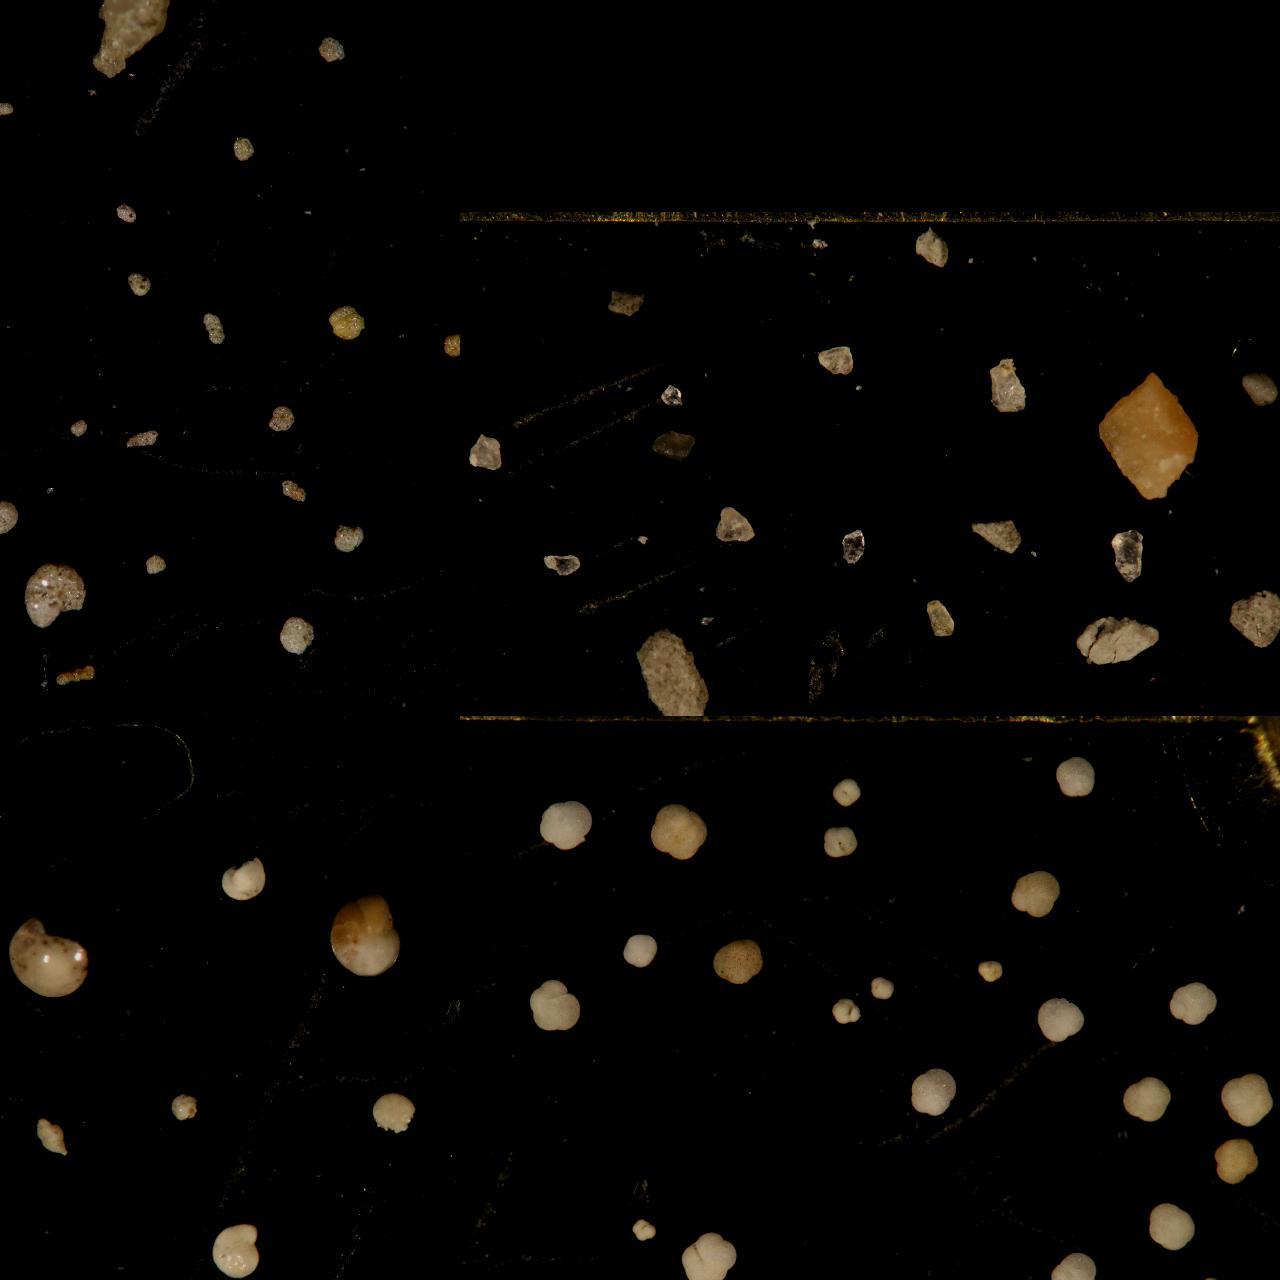Sediment: (1094, 369, 1198, 501), (633, 626, 712, 716), (1076, 614, 1162, 666), (1227, 588, 1280, 647), (987, 355, 1029, 415), (1109, 526, 1145, 584), (967, 517, 1022, 552), (913, 224, 951, 268), (713, 504, 756, 542), (651, 428, 697, 462), (1240, 368, 1280, 406), (606, 286, 649, 319), (468, 431, 504, 470), (815, 343, 855, 376), (925, 599, 955, 639), (542, 552, 580, 576), (842, 529, 866, 564), (459, 675, 481, 716), (660, 381, 686, 407), (459, 346, 479, 379), (459, 564, 475, 587)
agglutinated: (0, 96, 57, 331), (93, 0, 181, 77), (0, 319, 49, 407), (25, 563, 87, 627), (0, 280, 50, 331), (0, 482, 36, 536), (279, 617, 315, 654), (329, 305, 365, 339), (335, 523, 365, 553), (0, 568, 20, 612), (0, 16, 21, 56), (202, 313, 226, 343), (55, 666, 95, 685), (318, 36, 346, 61), (0, 175, 21, 206), (0, 377, 18, 415), (0, 427, 14, 472), (270, 406, 294, 431), (128, 272, 152, 297), (233, 136, 257, 162), (282, 479, 307, 503), (0, 600, 18, 633), (0, 554, 18, 586), (125, 431, 158, 447), (0, 216, 16, 246), (0, 28, 15, 59), (0, 203, 14, 233), (117, 202, 137, 223), (145, 554, 166, 573), (0, 481, 15, 506), (0, 32, 9, 73), (0, 386, 11, 420), (230, 0, 263, 11), (444, 334, 459, 356), (0, 98, 19, 115), (0, 445, 13, 469), (72, 420, 89, 436), (0, 284, 12, 307), (0, 80, 11, 100), (0, 0, 19, 11), (8, 0, 30, 8), (0, 702, 11, 716)
calcareous: (8, 914, 94, 1000), (328, 890, 403, 979), (211, 1223, 261, 1276), (219, 856, 268, 900), (372, 1092, 418, 1136), (34, 1115, 69, 1157), (170, 1092, 200, 1122), (123, 716, 165, 735), (0, 1163, 19, 1201), (338, 716, 379, 730), (297, 716, 329, 731), (124, 716, 157, 731)
planktic: (649, 802, 710, 860), (1218, 1071, 1274, 1126), (680, 1228, 738, 1280), (527, 978, 583, 1030), (710, 935, 765, 985), (538, 799, 593, 849), (1148, 1201, 1198, 1252), (1012, 869, 1063, 917), (1035, 995, 1087, 1042), (1121, 1075, 1173, 1121), (1212, 1137, 1260, 1185), (910, 1067, 958, 1115), (1167, 981, 1219, 1024), (459, 1000, 492, 1064), (1054, 754, 1096, 797), (459, 855, 489, 915), (1048, 1250, 1098, 1280), (621, 933, 661, 967), (822, 824, 858, 858), (459, 1217, 484, 1266), (459, 1141, 483, 1189), (459, 990, 485, 1030), (830, 778, 863, 808), (831, 995, 863, 1024), (869, 974, 897, 1000), (631, 1219, 659, 1241), (978, 960, 1005, 982)
